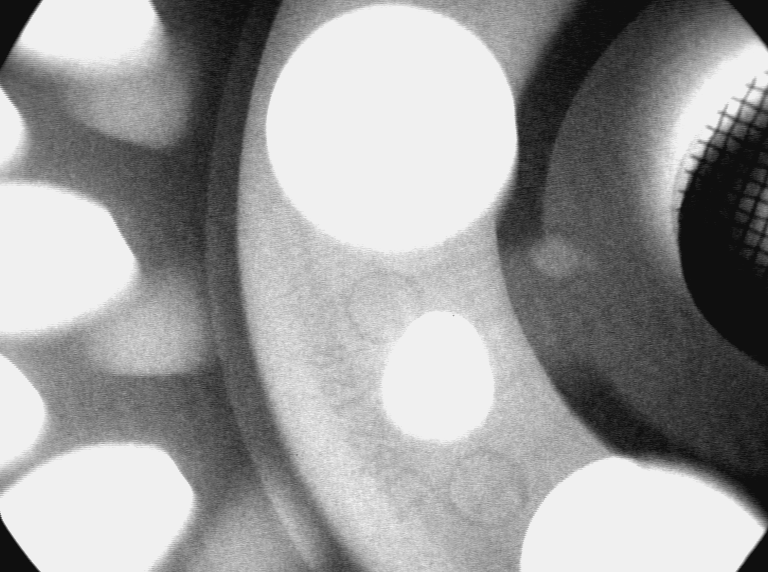defect: (531, 232, 600, 280)
